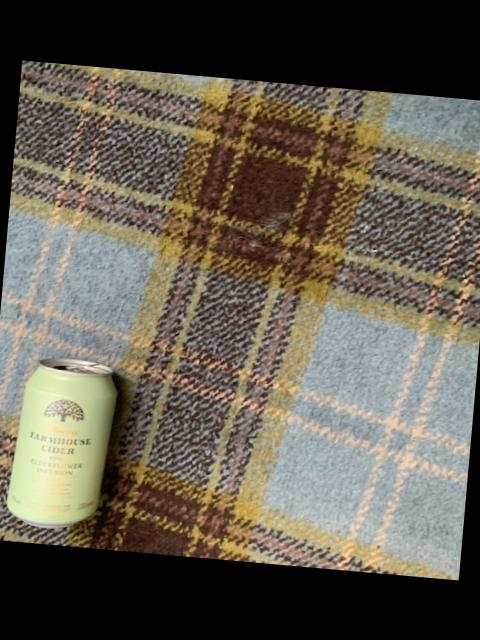metal: (4, 360, 114, 528)
